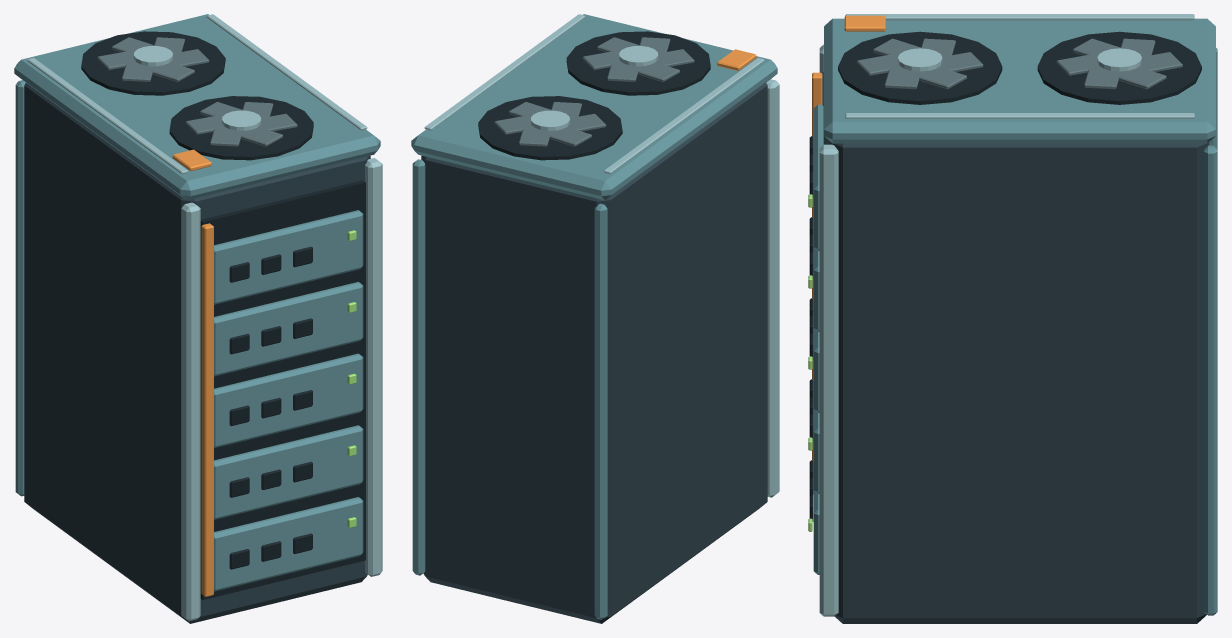
The model's file is server_rack.glb.
3 renders of one model, left to right at view 1: azimuth 30°, elevation 25°; view 2: azimuth 150°, elevation 25°; view 3: azimuth 270°, elevation 25°, orthographic. The views are drawn at different scales.
Visible parts, largest first — view 1: server_rack; view 2: server_rack; view 3: server_rack.
Boxes of the visible parts, bbox=[...] form: server_rack: bbox=[14, 14, 382, 623]; server_rack: bbox=[411, 14, 779, 623]; server_rack: bbox=[808, 14, 1217, 623].
Bounding box in the file's own units: 0.76 × 1.66 × 1.19.
